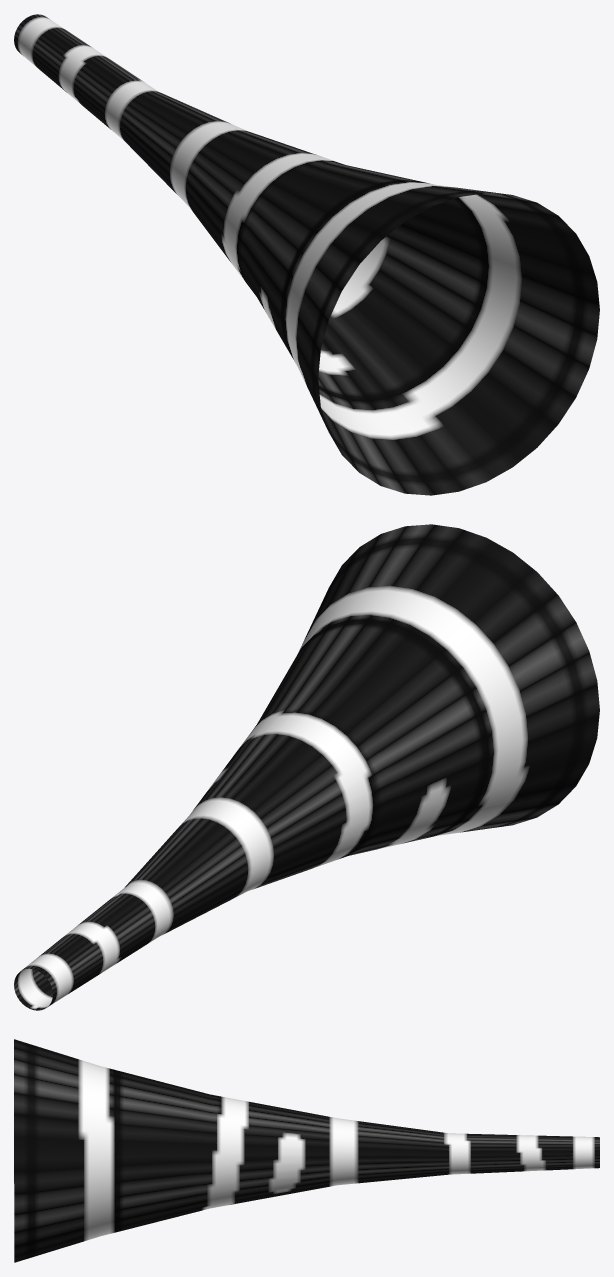
The model's file is VFXSoplarAspirar 1.fbx.
3 views of the same model, one above another, from view 1: azimuth 30°, elevation 25°; view 2: azimuth 150°, elevation 25°; view 3: azimuth 270°, elevation 25° (orthographic). The views are drawn at different scales.
Parts seen in each view (by area): view 1: VFXSoplarAspirar; view 2: VFXSoplarAspirar; view 3: VFXSoplarAspirar.
Part boxes in pixels (x1,y1,x2,y2): VFXSoplarAspirar: [14, 14, 599, 495]; VFXSoplarAspirar: [14, 524, 599, 1010]; VFXSoplarAspirar: [14, 1039, 599, 1262].
Size of the model in its own units: 0.5987 by 0.5987 by 1.57.
Materials: 1 (1 with a texture image).
